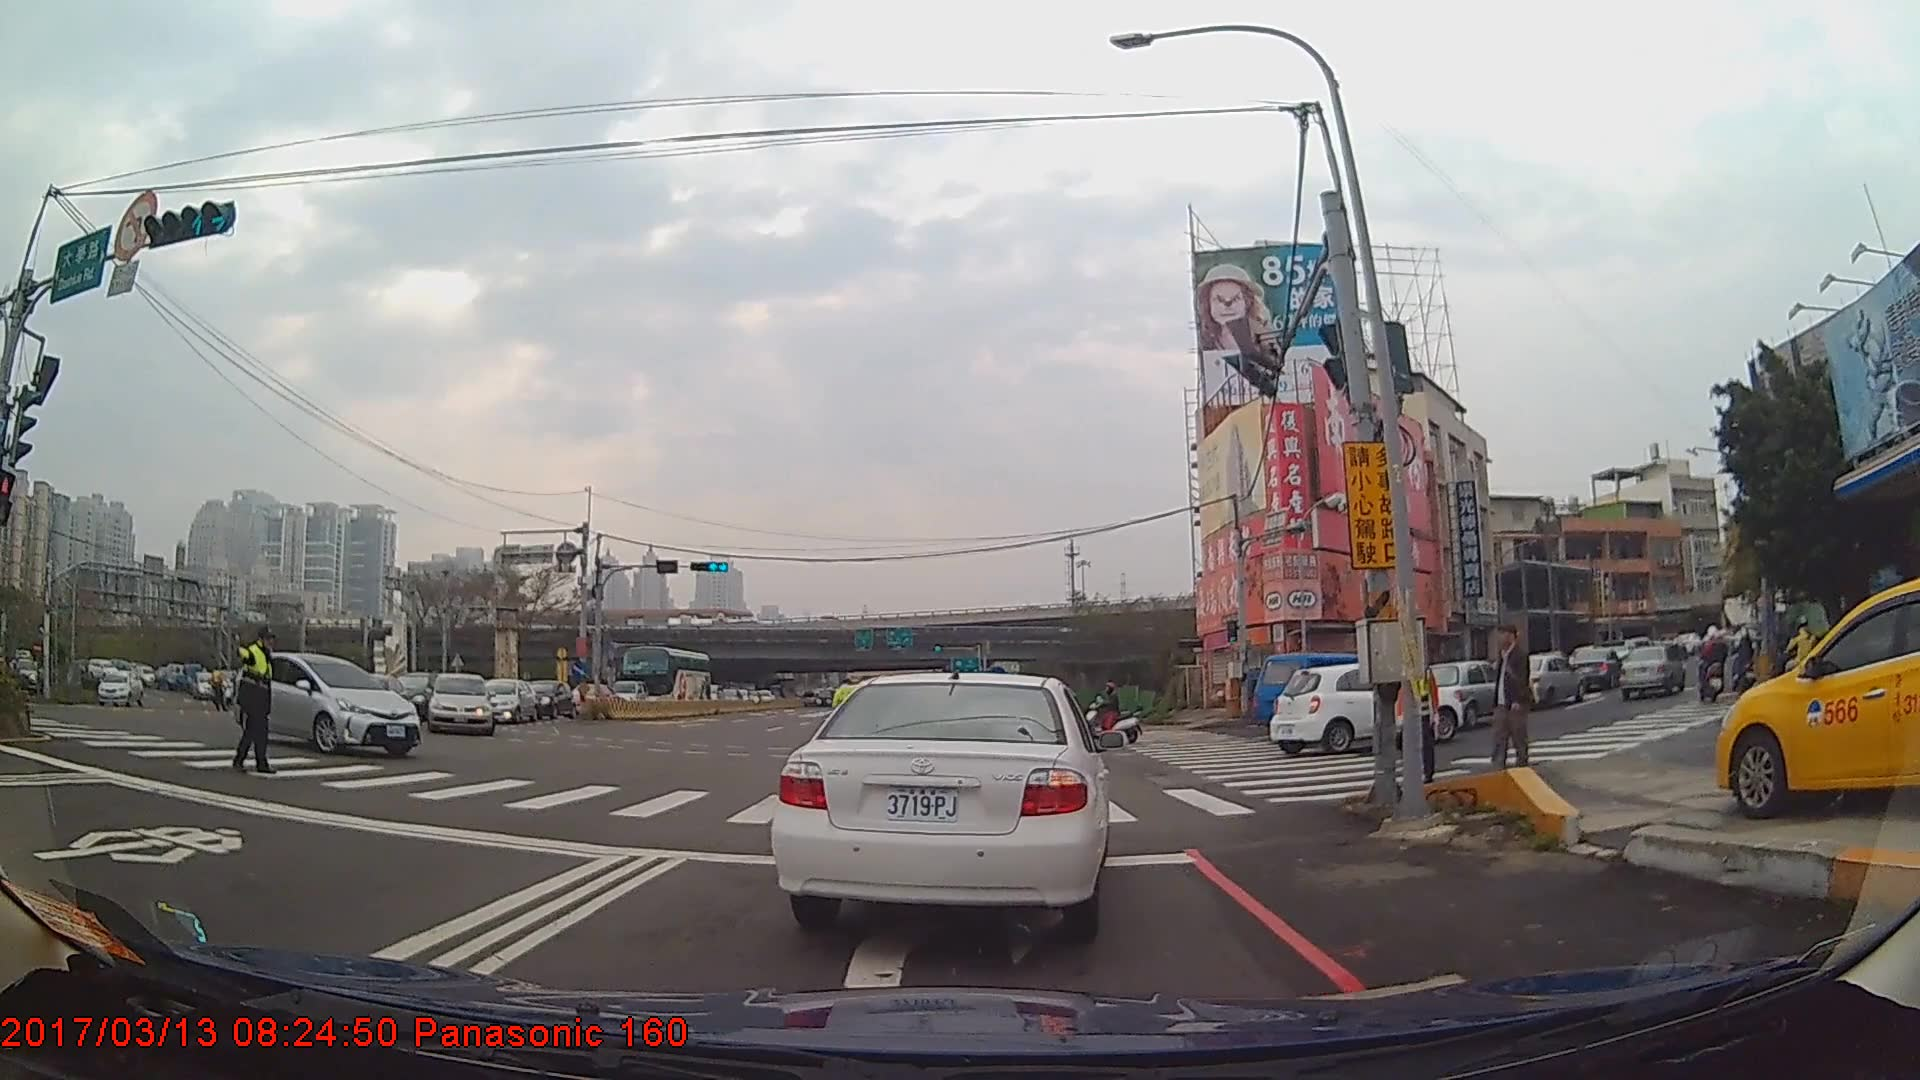pedestrian: (1490, 625, 1543, 772), (228, 623, 277, 777), (1398, 644, 1446, 791)
rider: (1077, 682, 1142, 745), (1775, 614, 1821, 692), (1699, 623, 1729, 704), (1731, 626, 1758, 692)
vehicle: (768, 669, 1111, 940), (1713, 577, 1919, 819), (238, 650, 421, 757), (1266, 662, 1463, 755), (1421, 659, 1528, 732), (619, 644, 711, 710), (423, 672, 497, 737), (1508, 653, 1583, 707), (1617, 642, 1684, 701), (478, 677, 538, 725), (1568, 646, 1625, 690), (519, 677, 578, 719), (90, 667, 146, 707)
